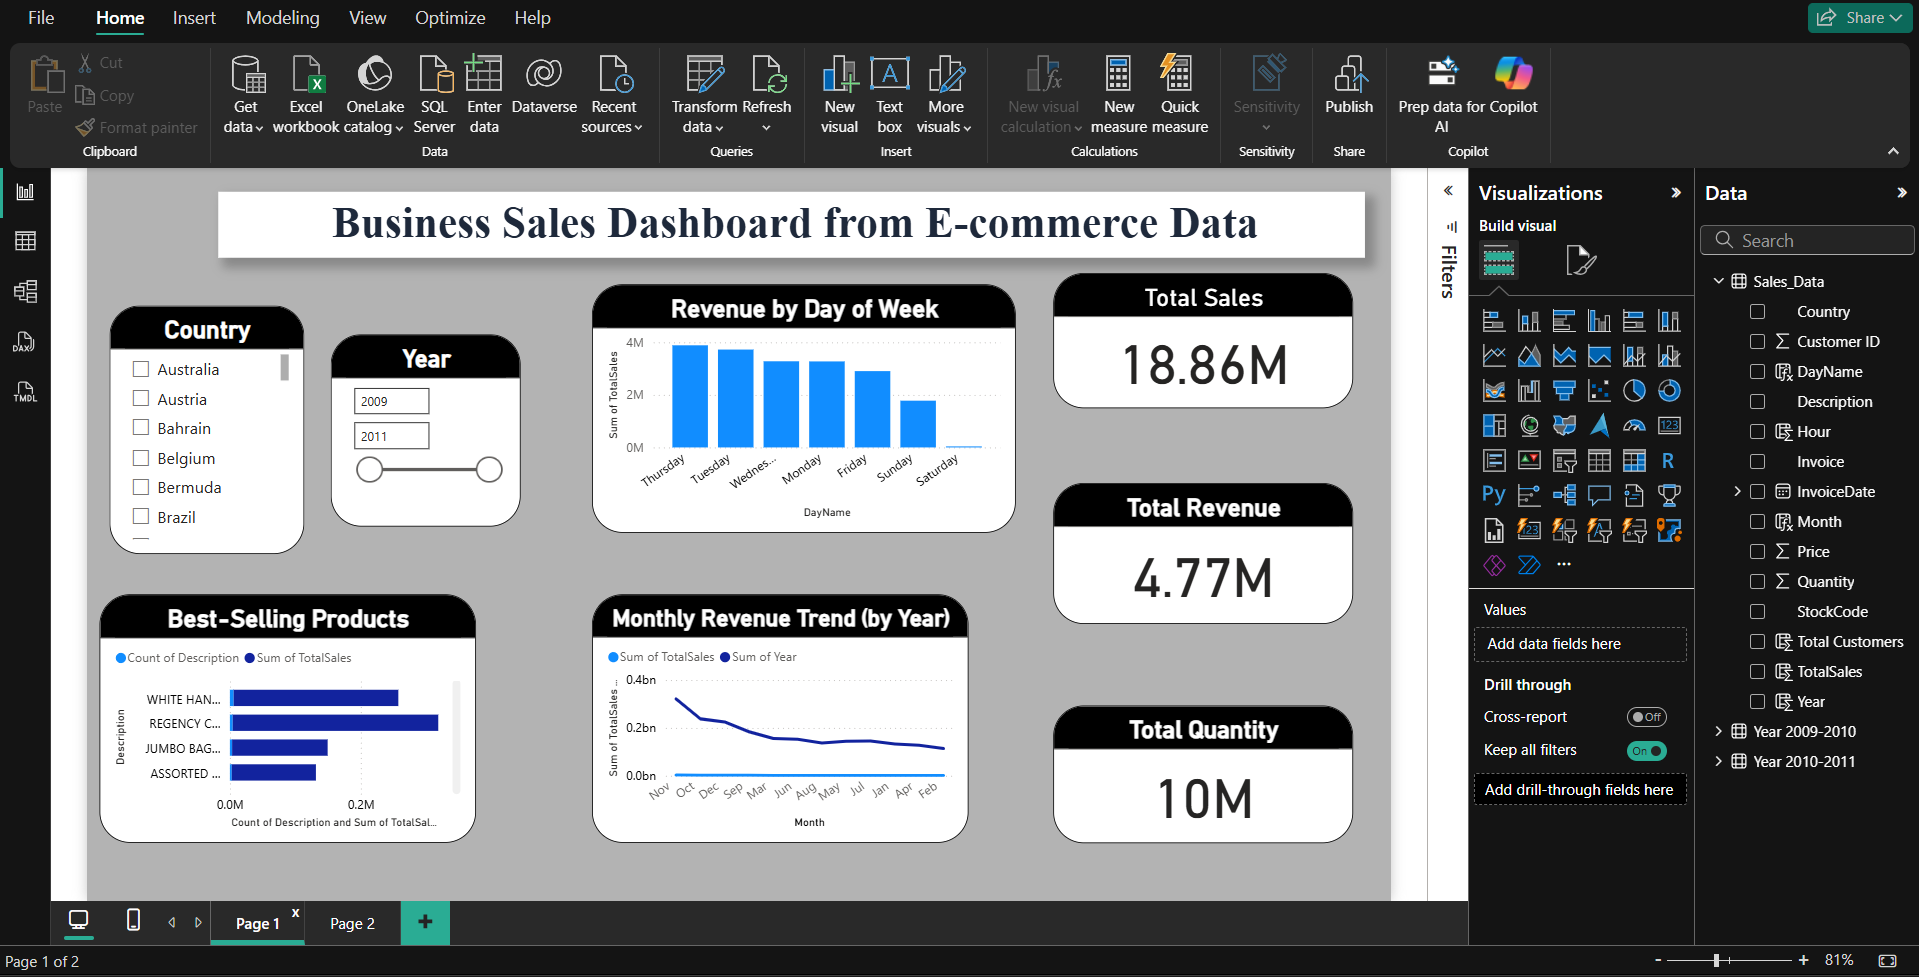

This screenshot's page, from the dashboard's own definition file:
{"tool":"powerbi","page":{"name":"Page 1","canvas":[1280,720],"ordinal":0},"visuals":[{"type":"textbox","box":[128.7,23,1125.8,65],"z":0},{"type":"lineChart","title":"Monthly Revenue Trend (by Year)","fields":{"Category":["Sales_Data.Month"],"Y":["Sum(Sales_Data.TotalSales)","Sum(Sales_Data.Year)"]},"box":[495.7,418.4,369.3,244.2],"z":1000},{"type":"barChart","title":"Best-Selling Products","fields":{"Category":["Sales_Data.Description"],"Y":["CountNonNull(Sales_Data.Description)","Sum(Sales_Data.TotalSales)"]},"box":[12.3,418.4,369.3,244.2],"z":2000},{"type":"columnChart","title":"Revenue by Day of Week","fields":{"Category":["Sales_Data.DayName"],"Y":["Sum(Sales_Data.TotalSales)"]},"box":[495.7,114.1,416,244.2],"z":3000},{"type":"slicer","title":"Country","fields":{"Values":["Sales_Data.Country"]},"box":[21.7,135.5,191,243.9],"z":4000},{"type":"slicer","title":"Year","fields":{"Values":["Sales_Data.Year"]},"box":[239.3,163.2,186.5,189],"z":5000},{"type":"card","title":"Total Revenue","fields":{"Values":["Sum(Sales_Data.Price)"]},"box":[948.5,309.2,294.5,138.7],"z":6000},{"type":"card","title":"Total Quantity","fields":{"Values":["Sum(Sales_Data.Quantity)"]},"box":[948.5,527.6,294.5,135],"z":7000},{"type":"card","title":"Total Sales","fields":{"Values":["Sum(Sales_Data.TotalSales)"]},"box":[948.5,103.1,294.5,132.5],"z":8000}]}

Visuals, with their boxes on the page's 1280x720 design canvas (x1, y1, x2, y2). These are canvas units, not pixel positions in the 1919x977 screenshot, which may show the page scaled, cropped or inside an application window:
textbox: <region>129, 23, 1254, 88</region>
"Monthly Revenue Trend (by Year)" lineChart: <region>496, 418, 865, 663</region>
"Best-Selling Products" barChart: <region>12, 418, 382, 663</region>
"Revenue by Day of Week" columnChart: <region>496, 114, 912, 358</region>
"Country" slicer: <region>22, 136, 213, 379</region>
"Year" slicer: <region>239, 163, 426, 352</region>
"Total Revenue" card: <region>948, 309, 1243, 448</region>
"Total Quantity" card: <region>948, 528, 1243, 663</region>
"Total Sales" card: <region>948, 103, 1243, 236</region>
